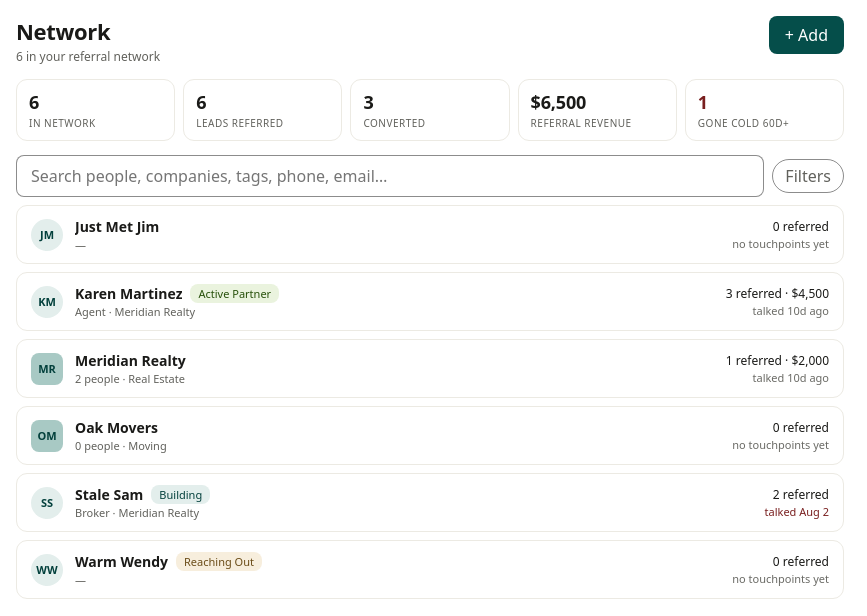
Test: C) the tag filter — searchable, any-of, over the one list › nobody tagged → the section says so instead of an empty list
The image size is (867, 616).
Click the button "Filters".
click(808, 176)  # box top-left (772, 159), bottom-right (844, 193)
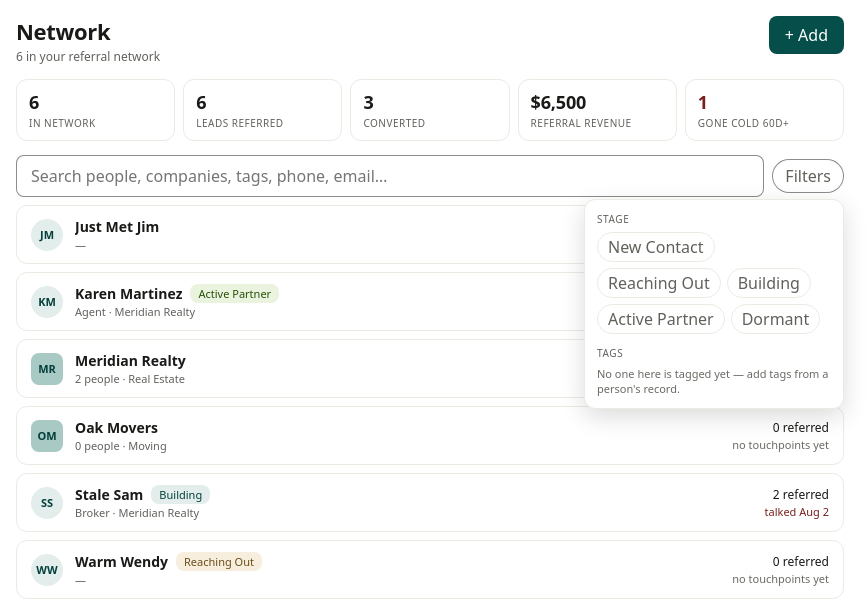
Check: the text "No one here is tagged yet" is shown, box top-left (597, 366), bottom-right (828, 396)
